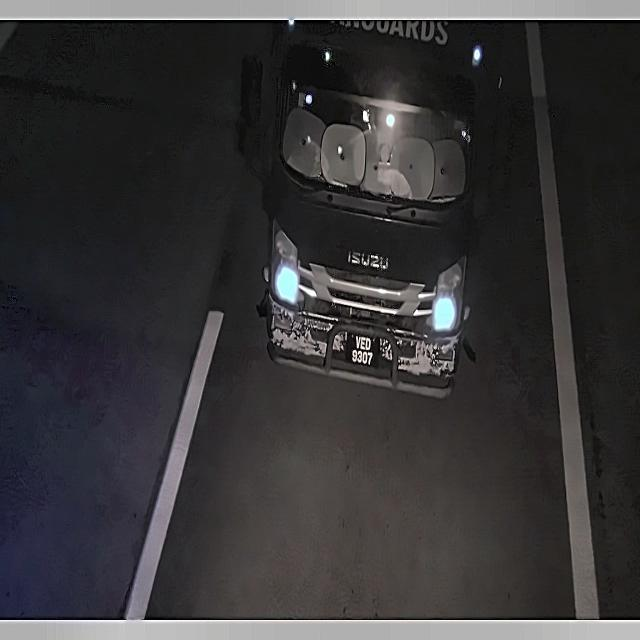car: (340, 328, 384, 376)
